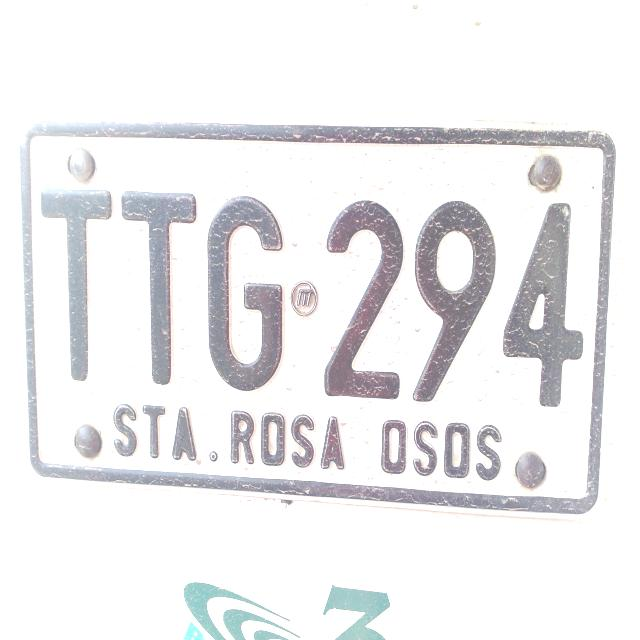placa: (9, 98, 622, 523)
